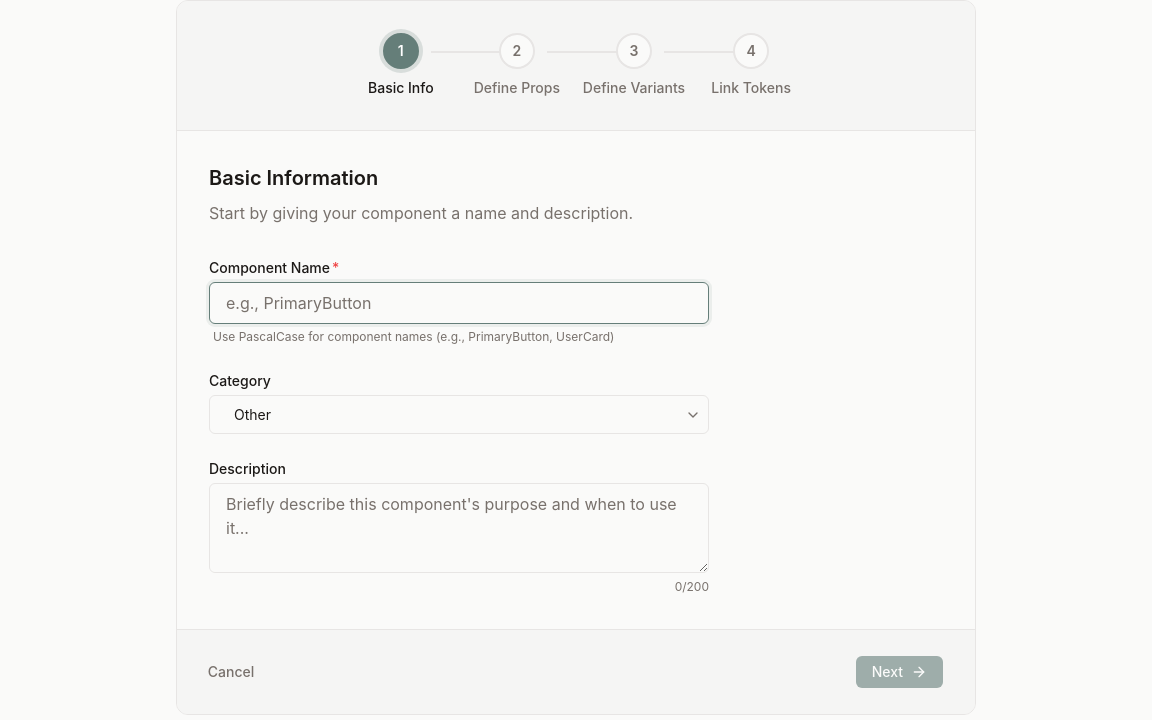
Test: Gate 6: Creation Wizards Complete › 3. Step 2 - Props › Next button works to advance to Variants step
Type "TestButton" into the field labelled "Component Name*" at (459, 303), box [209, 282, 709, 324]
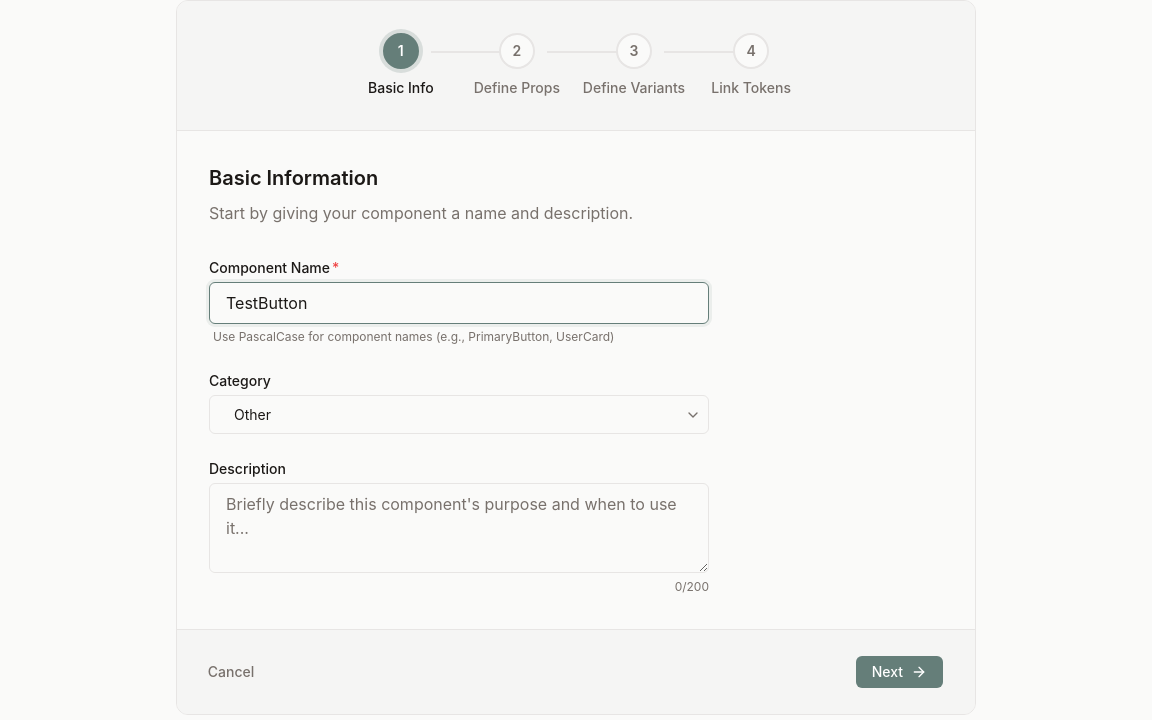
Click the button "Next" at (899, 672), box [856, 656, 943, 688]
(page scrolled)
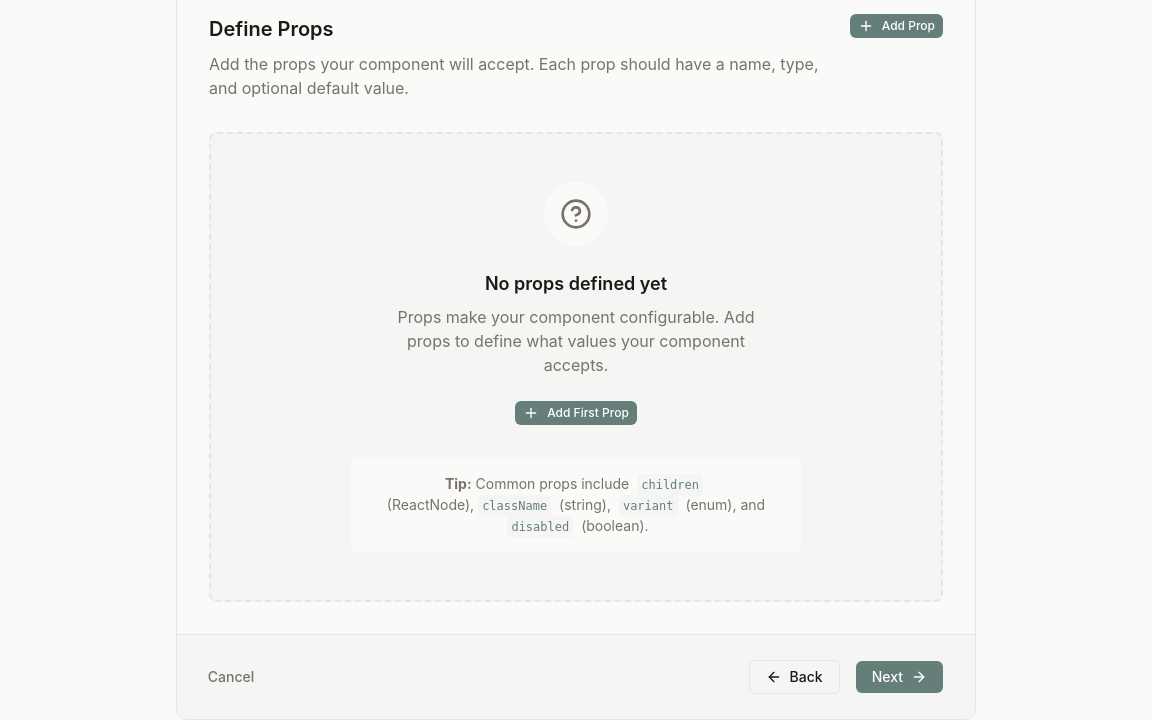
Expected: the heading "Define Props" is shown, [209, 17, 334, 41]
Click the button "Next" at (899, 677), box [856, 661, 943, 693]
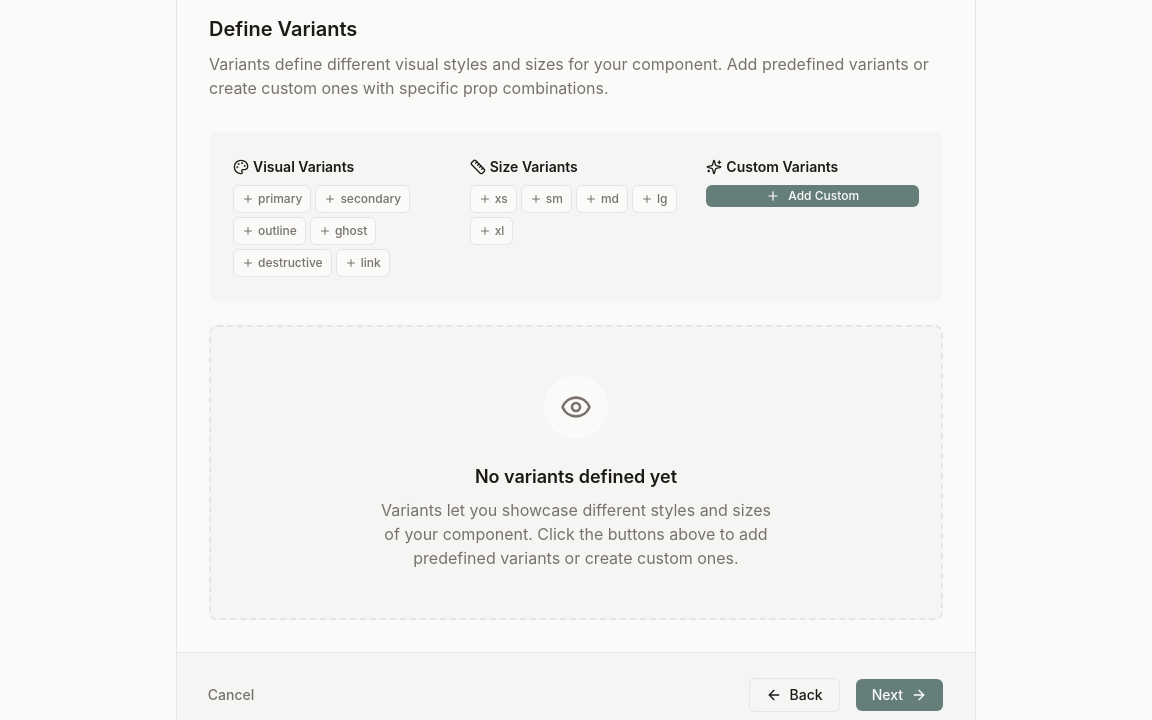
Expected: the heading "Define Variants" is shown, [209, 17, 357, 41]
